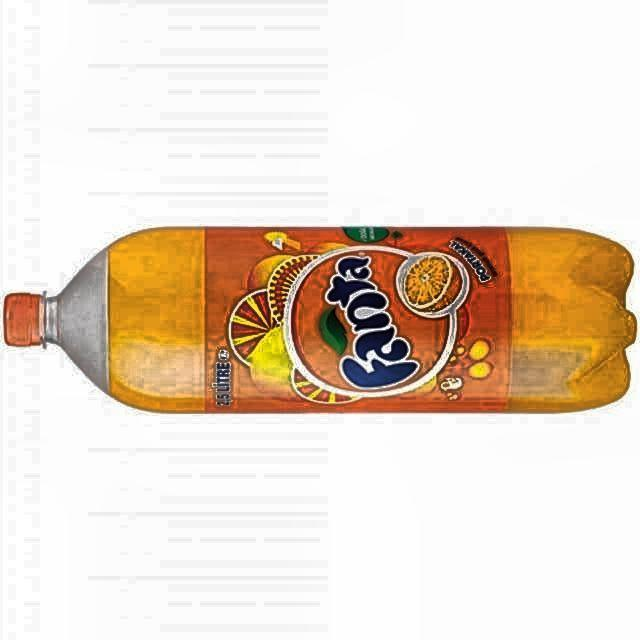plastic: (5, 228, 636, 412)
